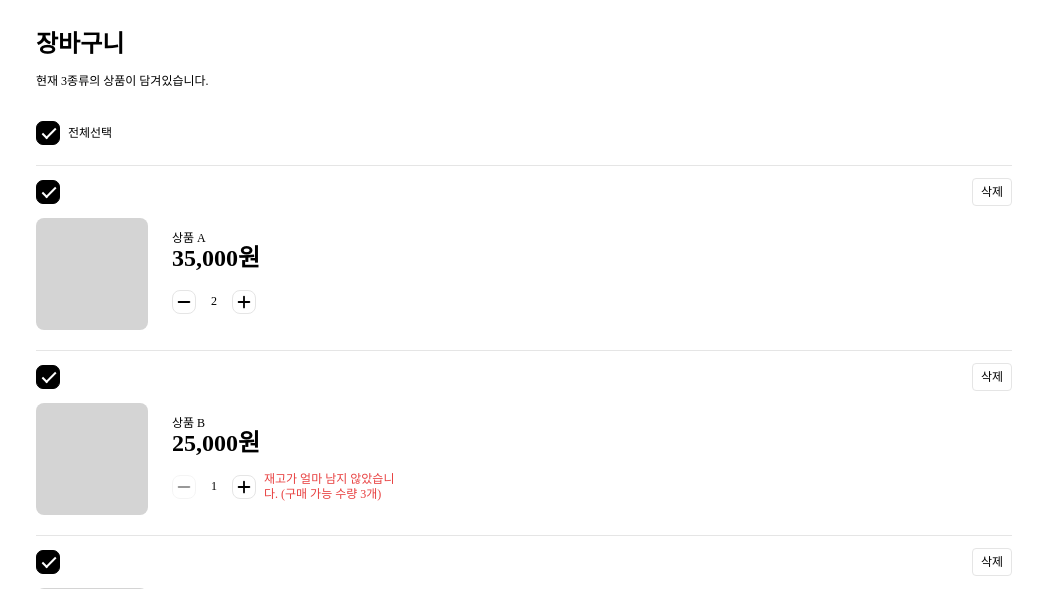
선택/해제 → 결제 금액 변동 › 상품 선택 해제 시 결제 금액이 줄어든다
This screenshot has width=1048, height=589.
Expected: the text "상품 A" is shown, top-left (172, 230), bottom-right (206, 244)
Click the 2nd checkbox. click: [48, 192]
box: top-left (36, 180), bottom-right (60, 204)
(page scrolled)
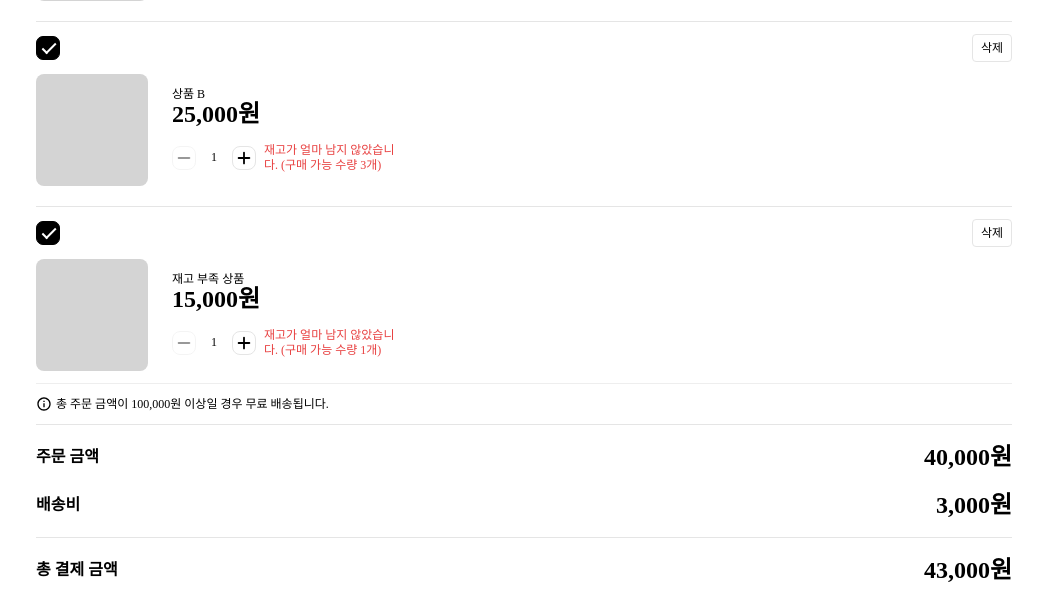
Expected: the text "43,000원" is shown, top-left (924, 558), bottom-right (1012, 582)
